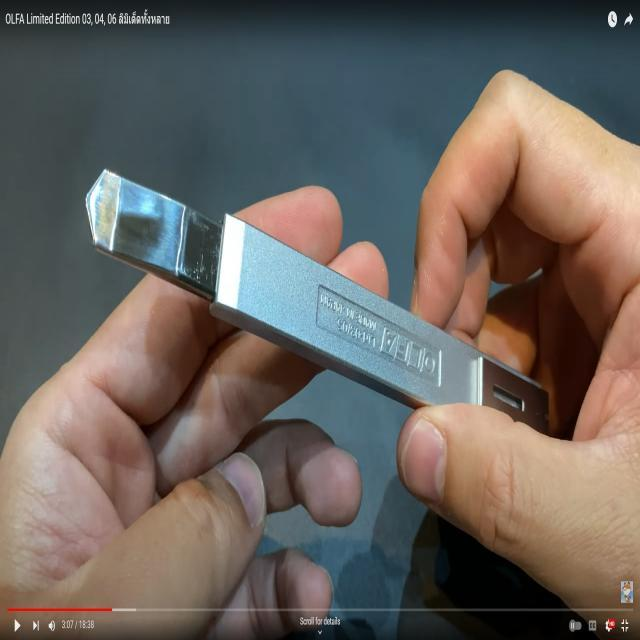cutter: (24, 98, 640, 558)
